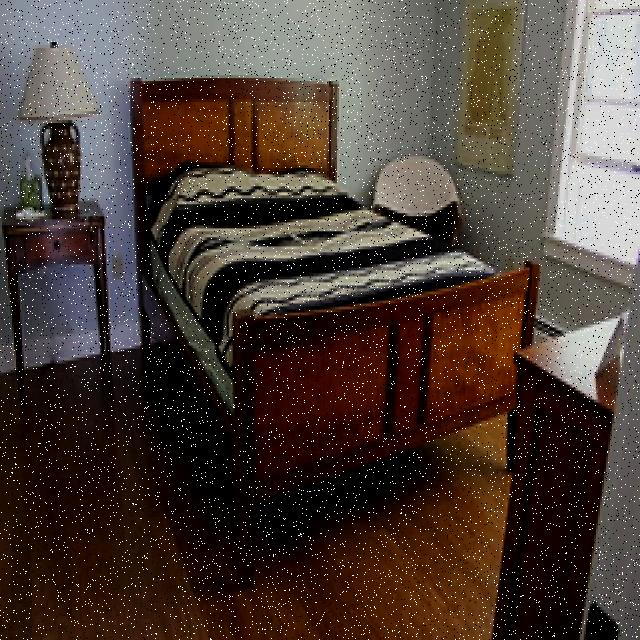bed: (142, 86, 508, 434)
